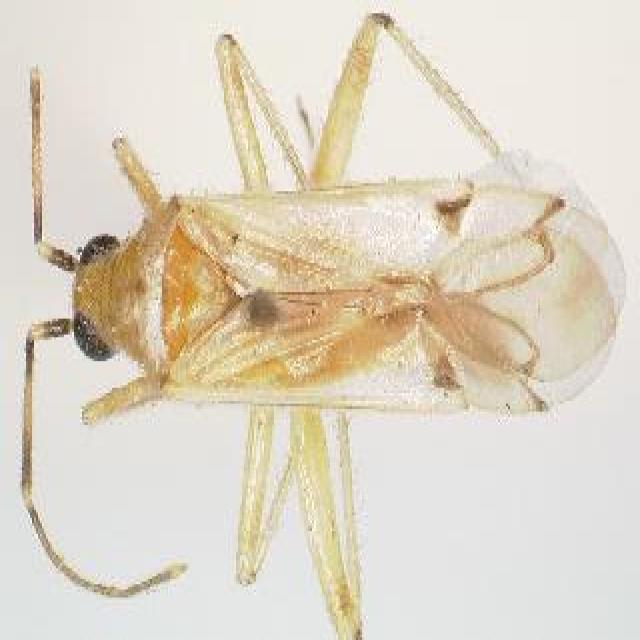Miridae-Adult-: (19, 9, 629, 626)
